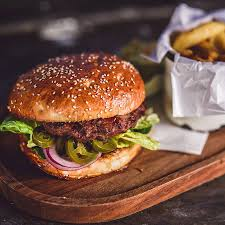hamburger: (9, 51, 150, 177)
